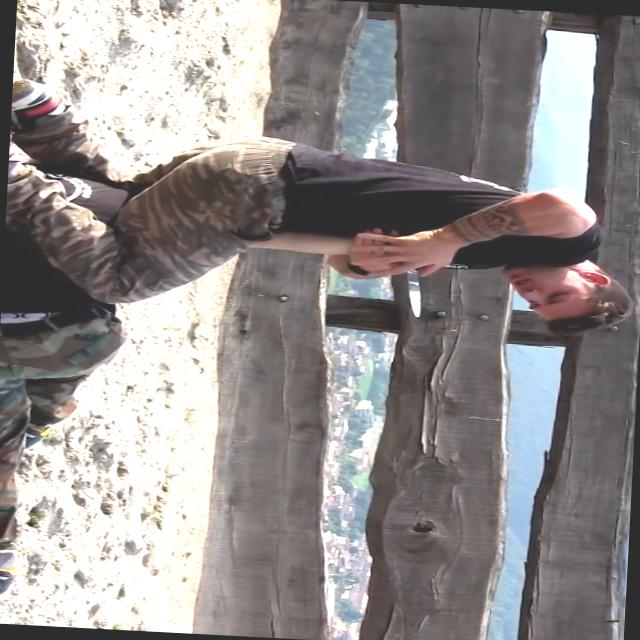knife: (388, 246, 442, 328)
